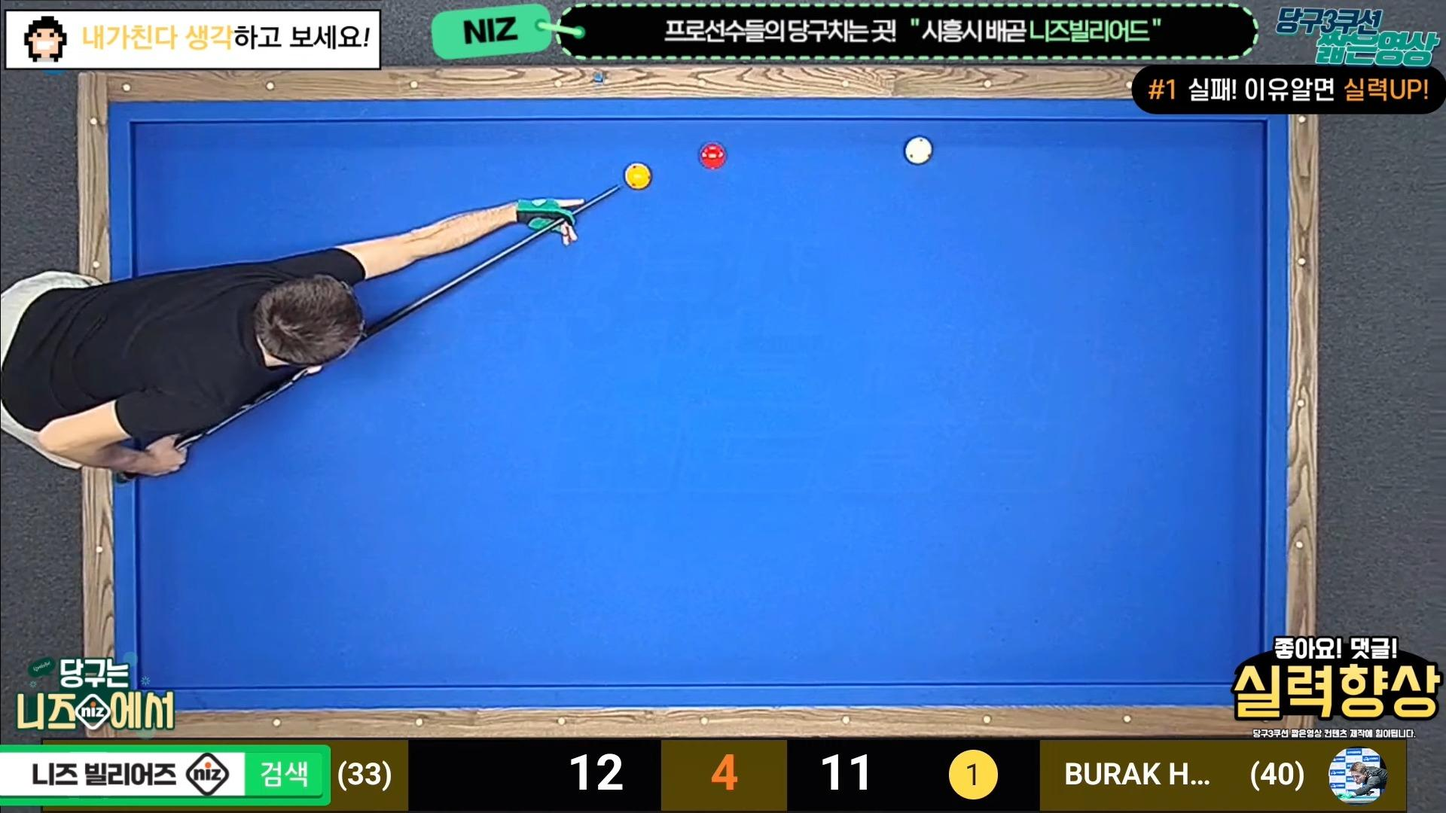-billiard-ball: (903, 135, 932, 165), (623, 162, 651, 190)
Red: (699, 141, 731, 170)
White: (905, 135, 939, 165)
Yellow: (623, 163, 655, 192)
